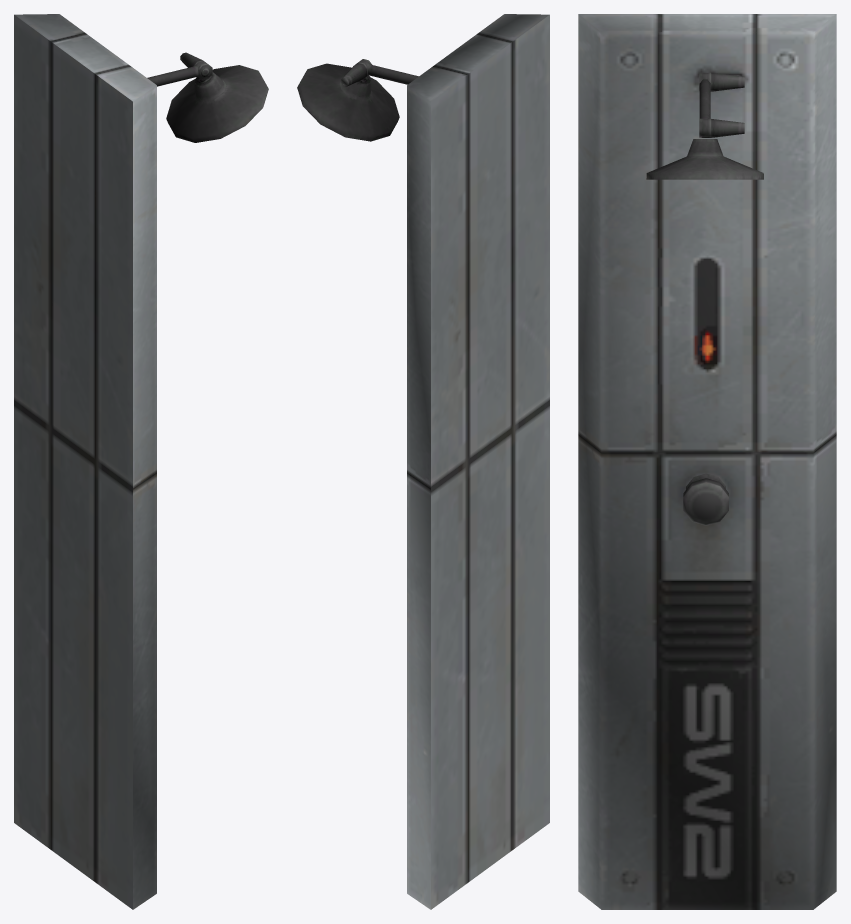
File: ShowerHead01.FBX
3 renders of one model, left to right at view 1: azimuth 30°, elevation 25°; view 2: azimuth 150°, elevation 25°; view 3: azimuth 270°, elevation 25°, orthographic. The views are drawn at different scales.
Visible parts, largest first — view 1: ShowerHead01; view 2: ShowerHead01; view 3: ShowerHead01.
Part boxes in pixels (x1,y1,x2,y2): ShowerHead01: (14,14,268,909); ShowerHead01: (297,14,549,909); ShowerHead01: (578,14,836,909).
Bounding box in the file's own units: 0.3622 × 1.5 × 0.4.
